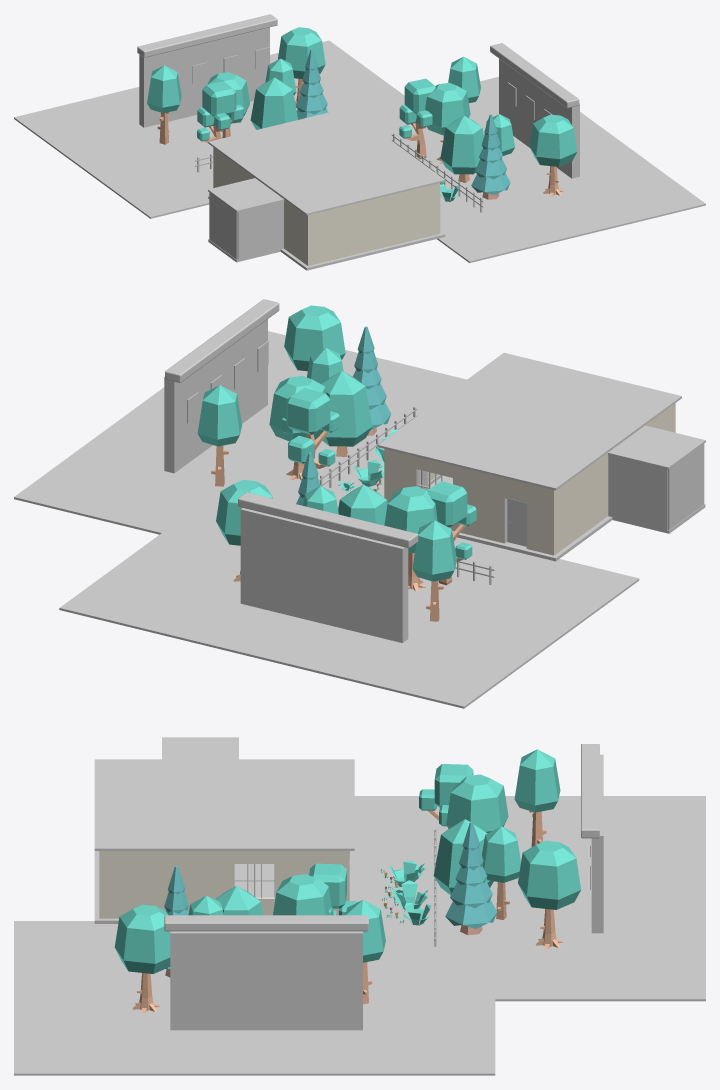
Rendered from bedroom_whistle.glb.
3 views of the same model, one above another, from view 1: azimuth 30°, elevation 25°; view 2: azimuth 150°, elevation 25°; view 3: azimuth 270°, elevation 25° (orthographic). The views are drawn at different scales.
Parts seen in each view (by area): view 1: grass, k_leafsGreen, ceiling, wall, house_far, wall_next, roof_far, k_leafsDark, k_woodBark, window_far, carpet, fence; view 2: grass, ceiling, house_far, k_leafsGreen, wall, wall_next, roof_far, k_leafsDark, k_woodBark, carpet, fence, window_far (+2 smaller); view 3: grass, ceiling, k_leafsGreen, house_far, wall, roof_far, k_leafsDark, k_woodBark, k_grass, carpet, rug_b.
Boxes of the visible parts, x1,y1,x2,y2 form: grass: (14,40,705,262); k_leafsGreen: (147,27,577,174); ceiling: (208,108,445,215); wall: (213,147,440,265); house_far: (139,27,579,178); wall_next: (209,192,283,259); roof_far: (137,14,579,108); k_leafsDark: (295,49,510,194); k_woodBark: (157,78,563,196); window_far: (174,47,551,119); carpet: (208,196,445,270); fence: (195,133,483,212); grass: (14,331,639,708); ceiling: (377,352,705,490); house_far: (164,319,408,642); k_leafsGreen: (197,305,476,581); wall: (384,403,675,555); wall_next: (608,444,704,530); roof_far: (165,299,418,548); k_leafsDark: (296,326,391,505); k_woodBark: (211,431,465,621); carpet: (428,475,612,561); fence: (318,406,494,584); window_far: (187,341,268,423); grass: (14,796,705,1075); ceiling: (94,737,354,850); k_leafsGreen: (114,749,580,973); house_far: (170,754,603,1030); wall: (99,851,349,918); roof_far: (164,744,599,931); k_leafsDark: (164,822,497,969); k_woodBark: (132,810,563,1013); k_grass: (380,860,431,925); carpet: (94,851,354,923); rug_b: (251,864,274,894).
Size of the model in its own units: 54.6 by 10.1 by 57.5.
